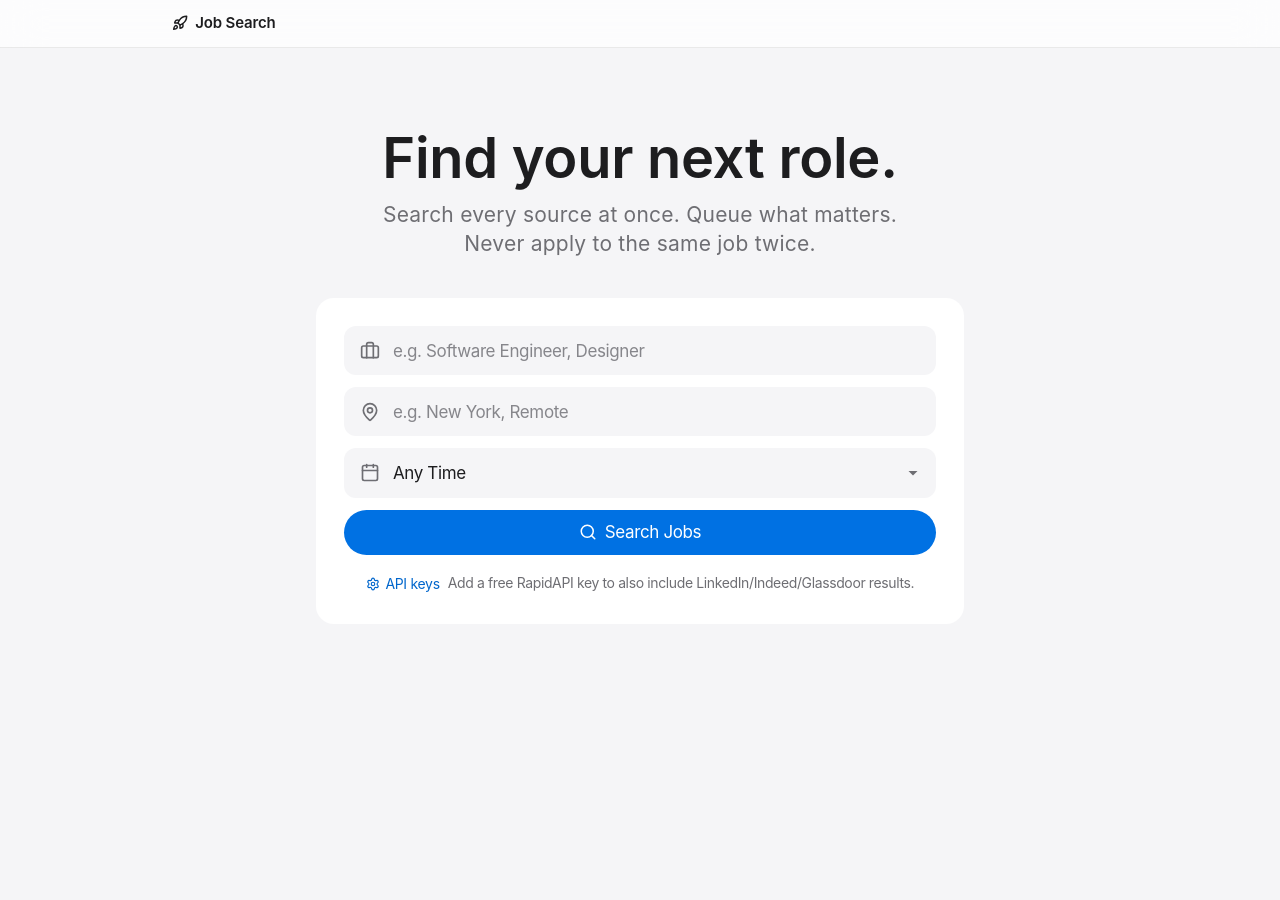
Scenario: applied tracking › marks a job applied from the queue and writes applied_jobs
Type "engineer" into the field named "Job title" at (640, 351), box left=344, top=326, right=936, bottom=375
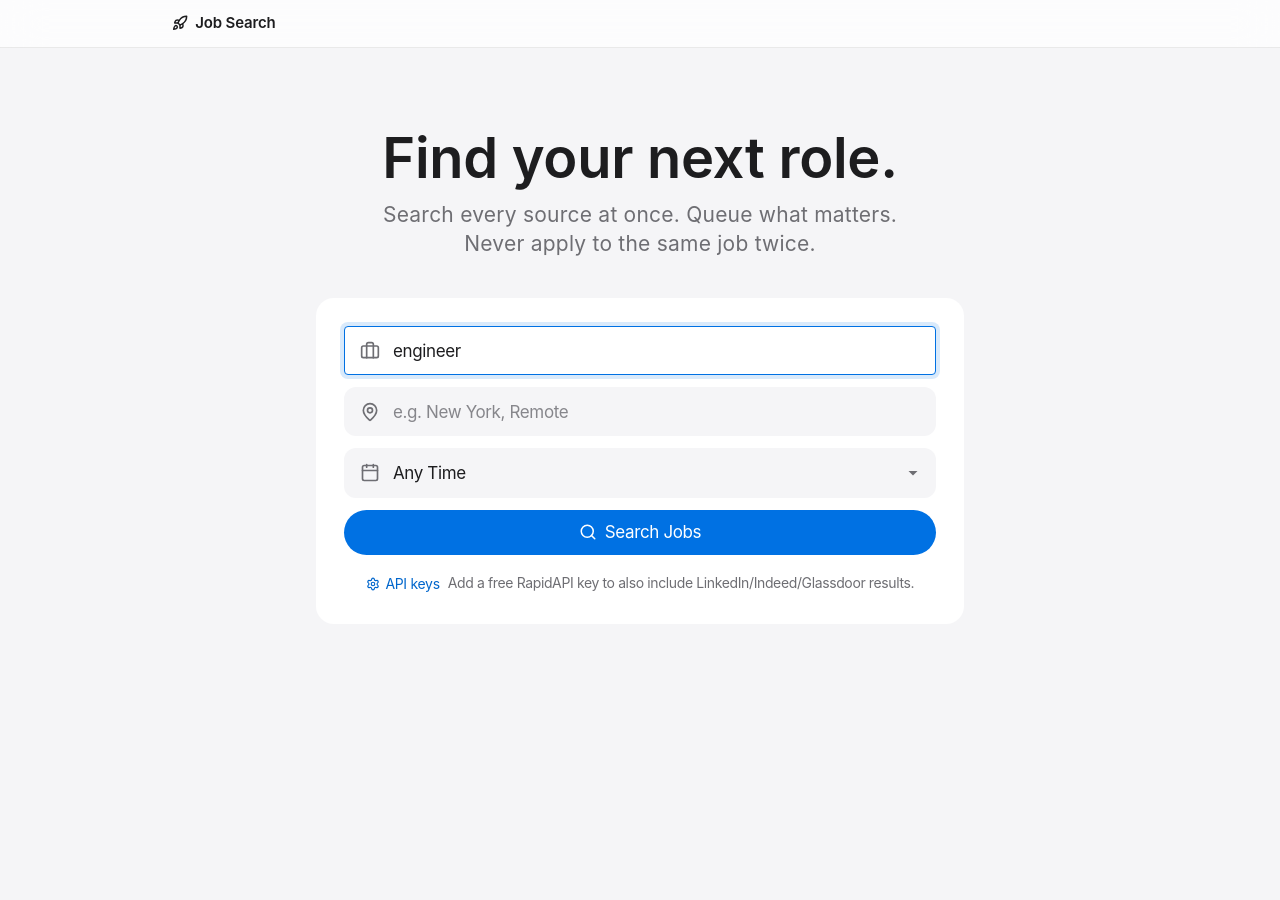
Click the button "Search Jobs" at (640, 532), box left=344, top=510, right=936, bottom=555
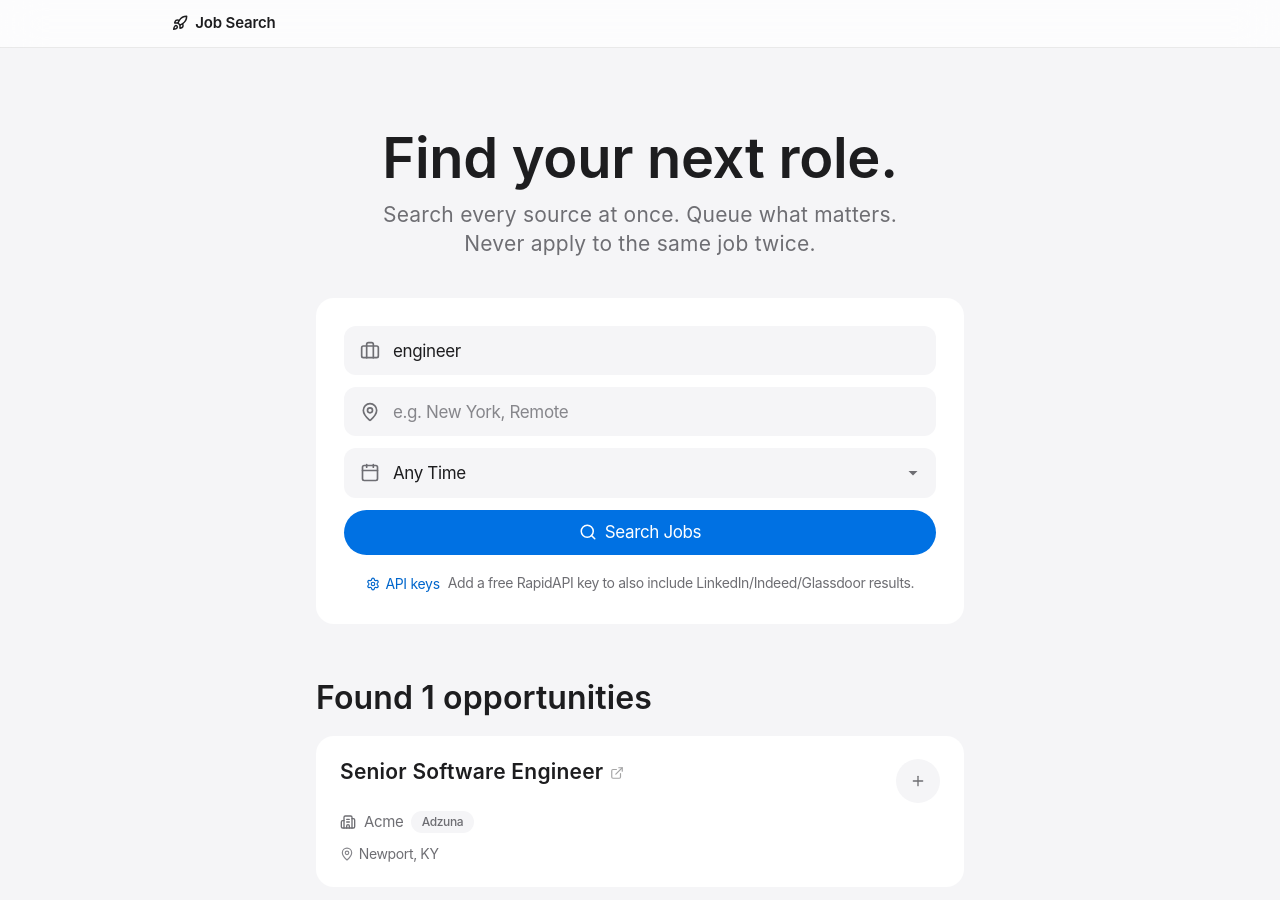
Click the button named "add senior software engineer to apply queue" at (918, 780), box left=896, top=758, right=940, bottom=802
(page scrolled)
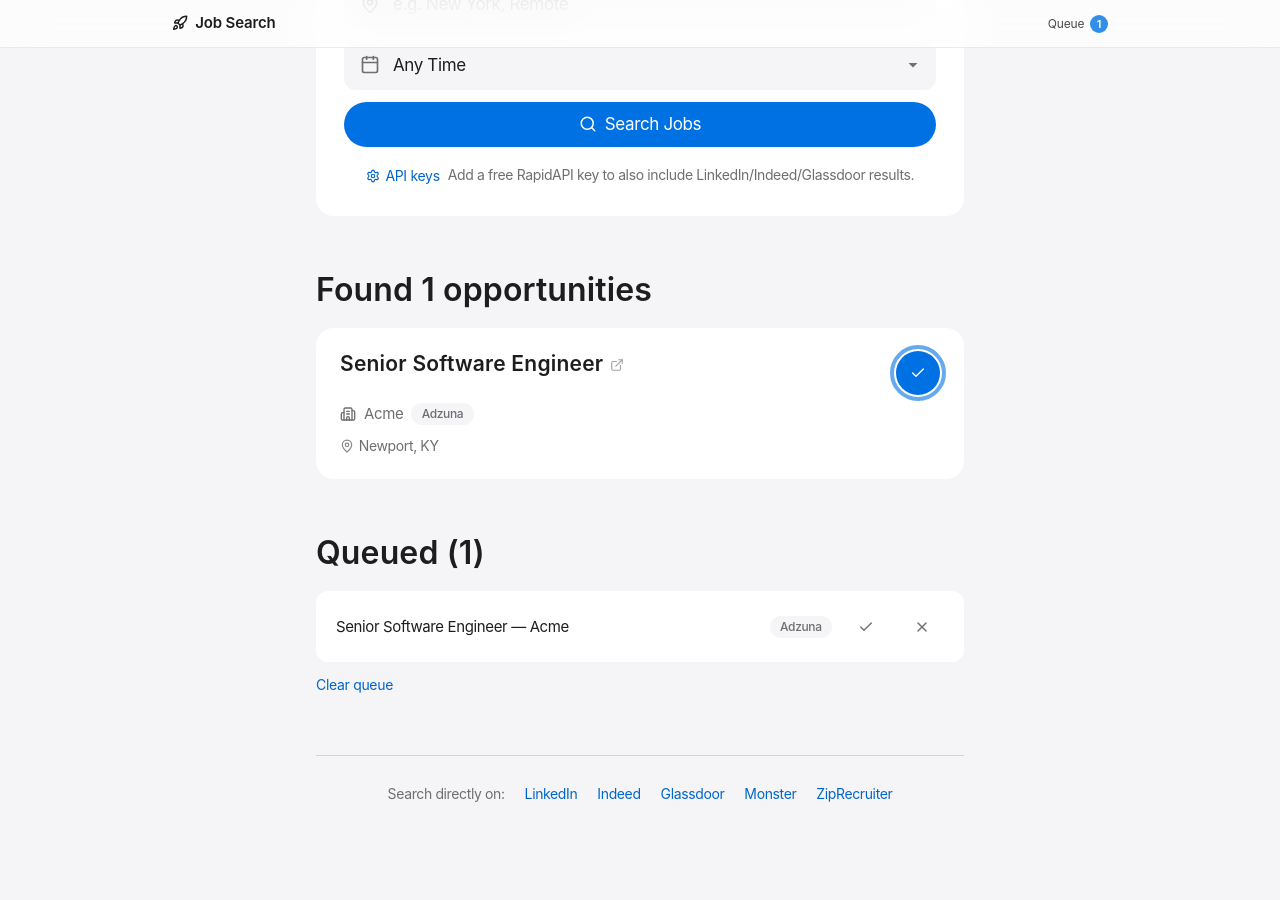
Click the button named "mark senior software engineer as applied" at (866, 627), box left=844, top=605, right=888, bottom=649
(page scrolled)
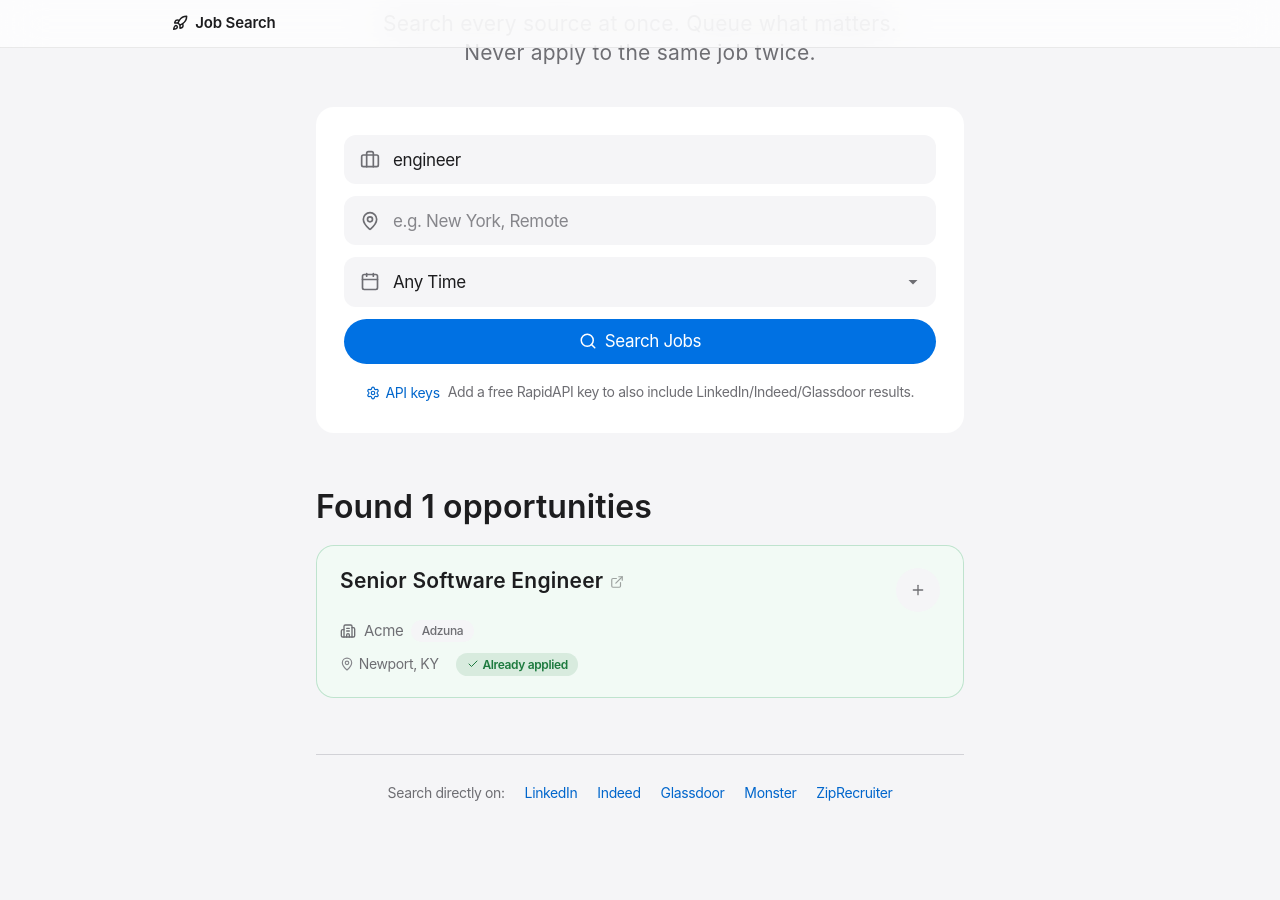
Expected: the text "Already applied" is shown, left=456, top=653, right=578, bottom=676
